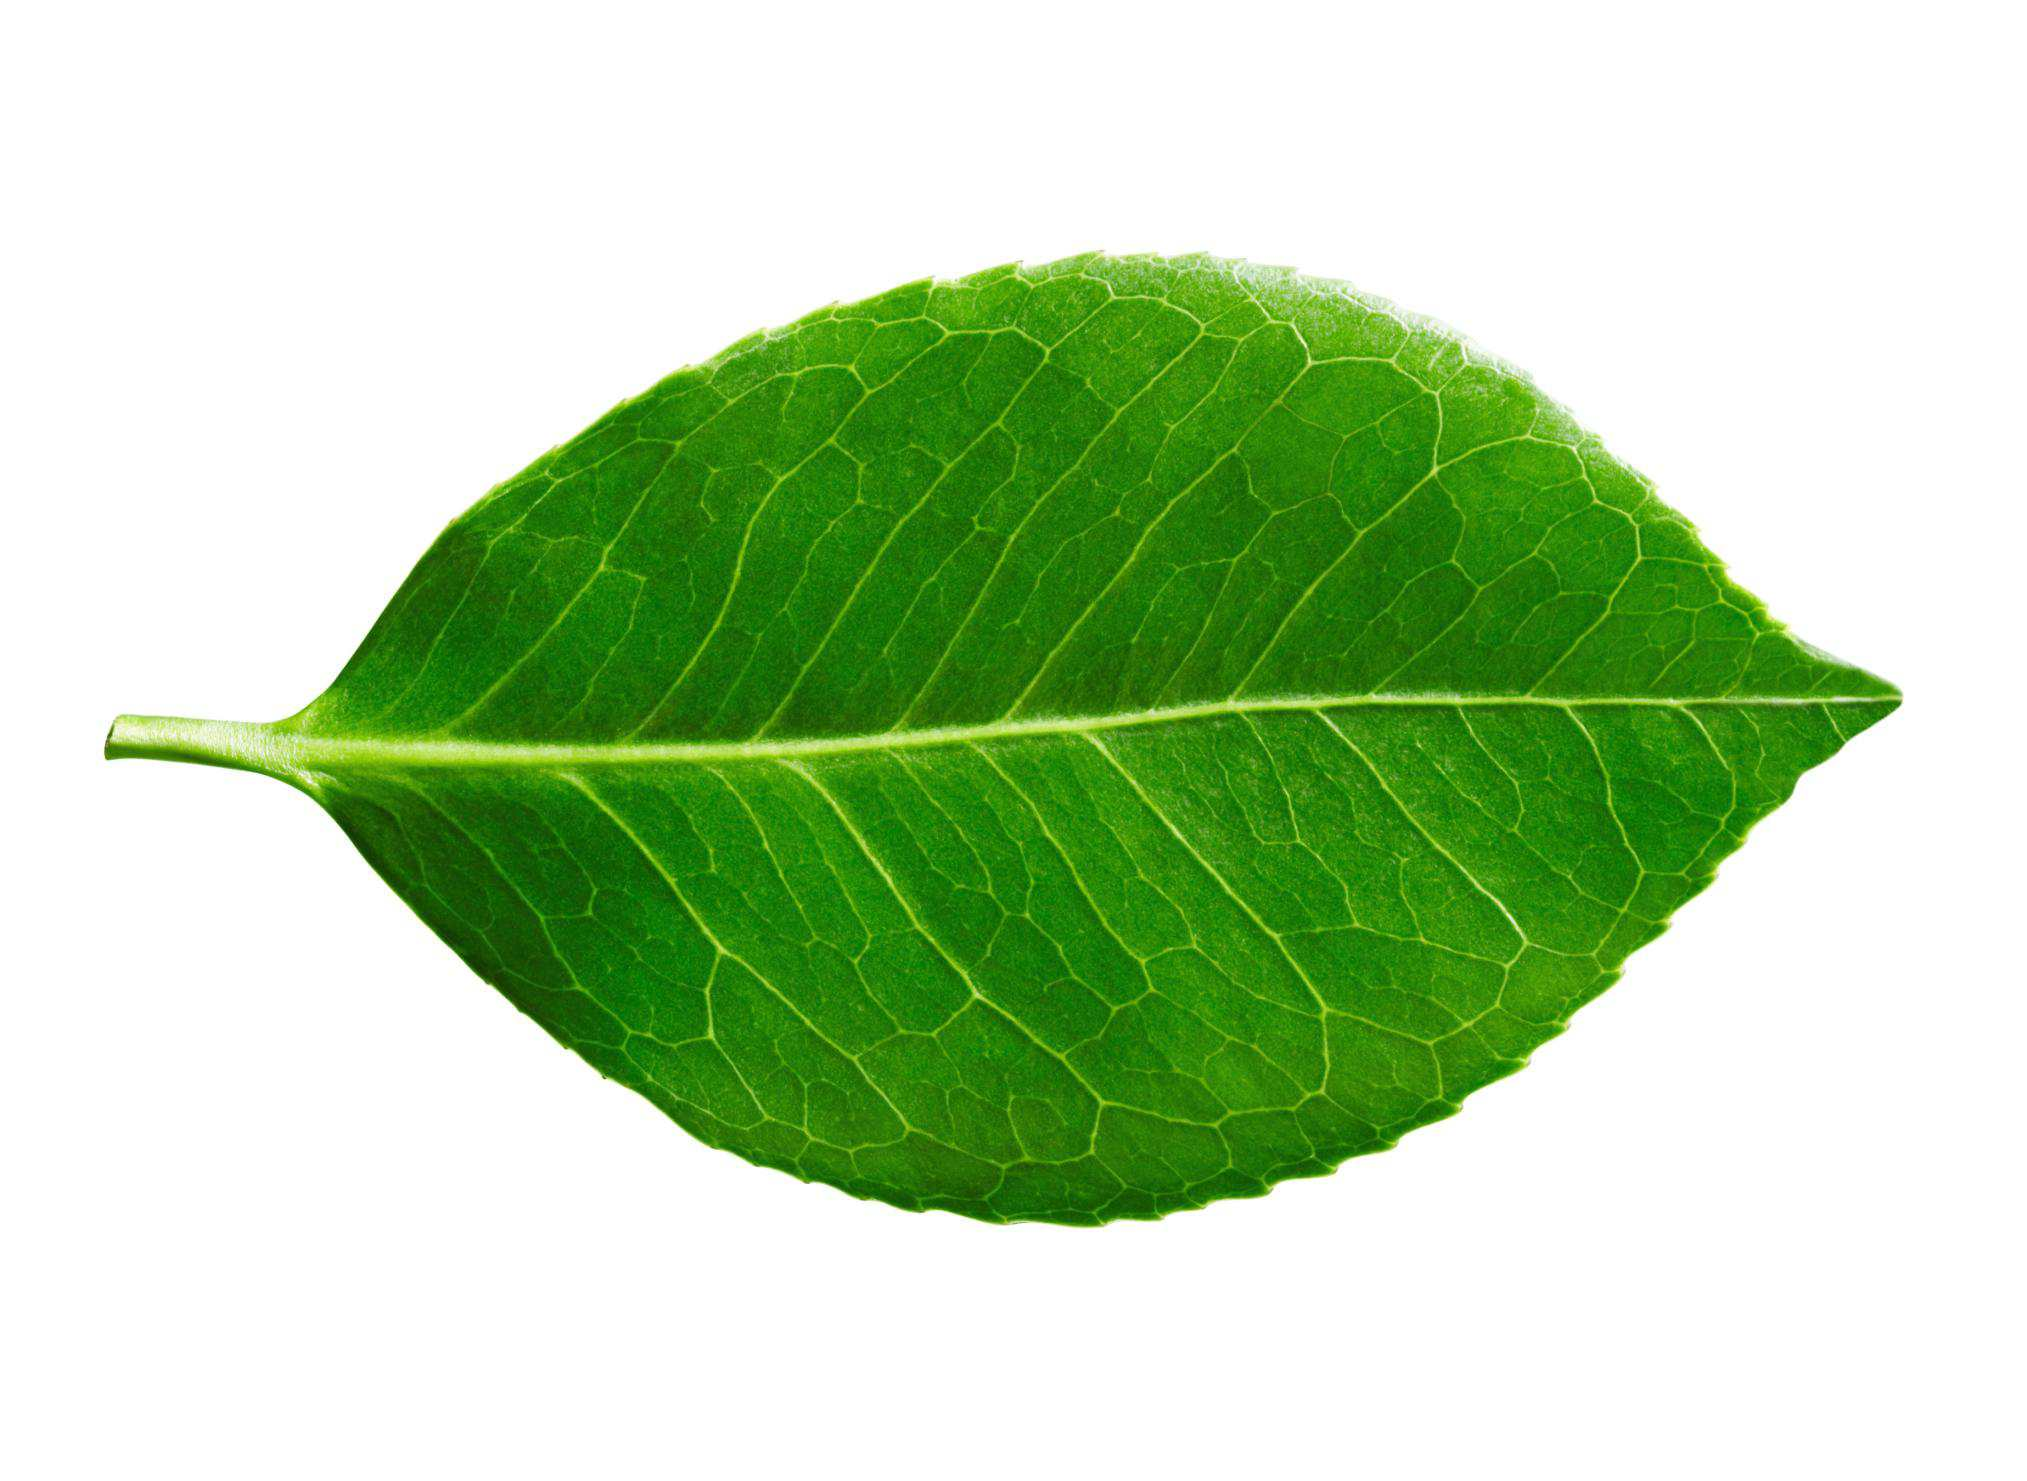healthy: (176, 143, 1955, 1336)
